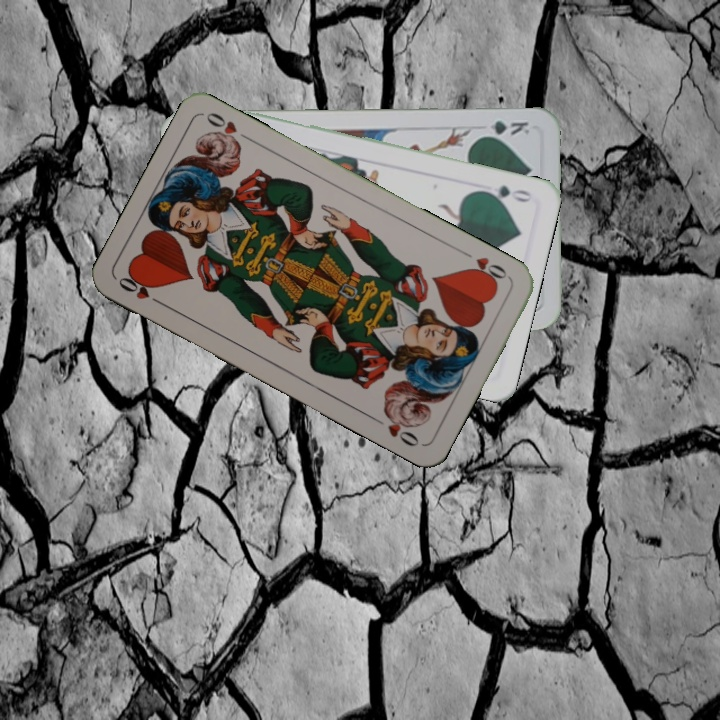GK: (475, 116, 532, 139)
GO: (476, 181, 535, 205)
HO: (458, 247, 512, 288), (114, 271, 168, 309)
